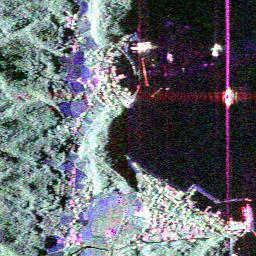Ship: (223, 88, 234, 109)
